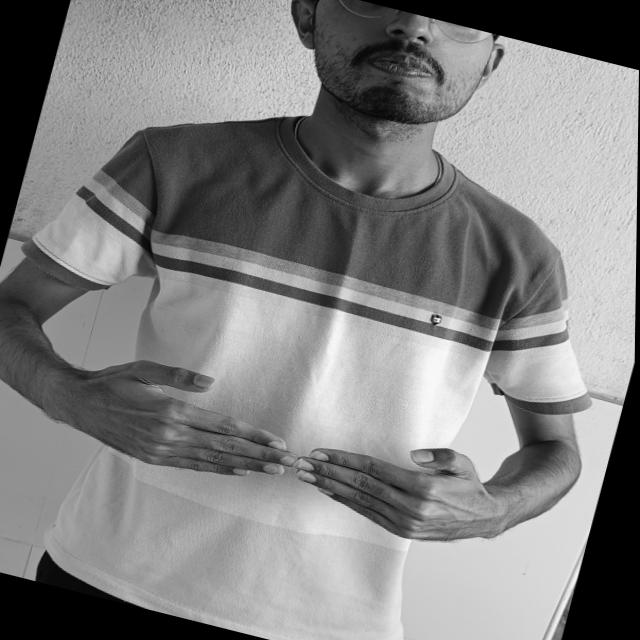Night: (27, 322, 543, 582)
